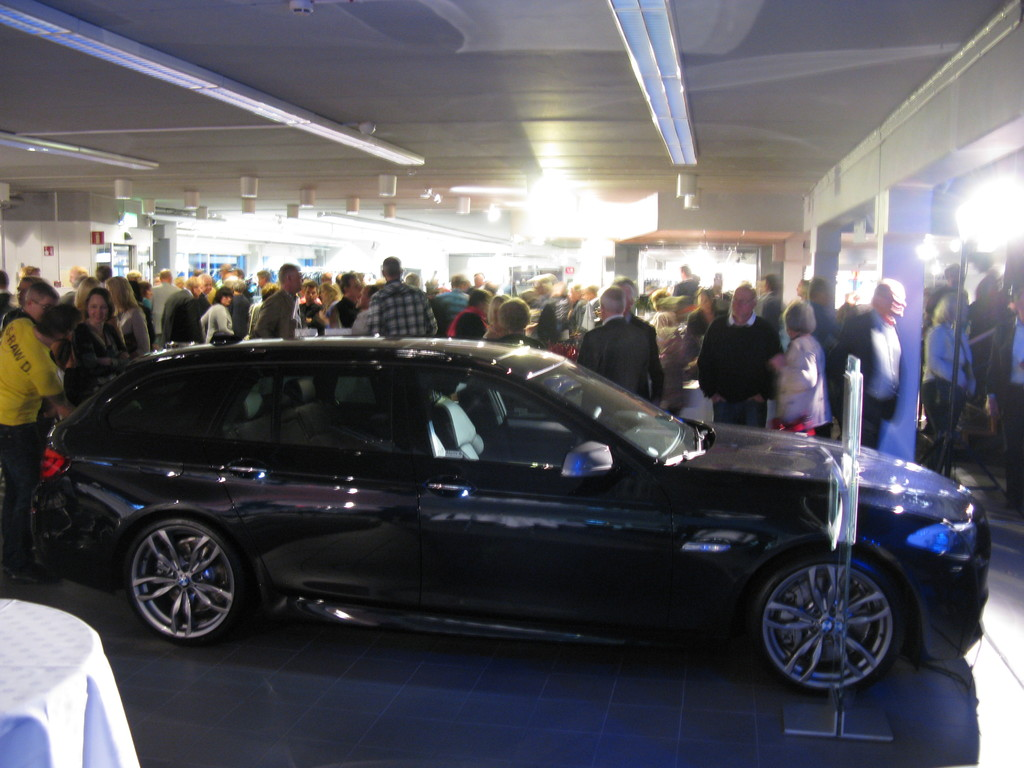Car: (26, 345, 970, 692)
